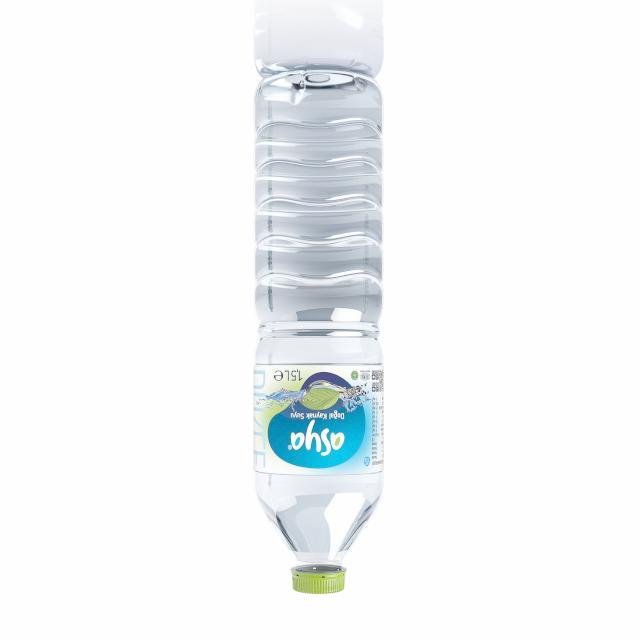cap: (286, 560, 350, 596)
label: (246, 360, 390, 475)
not-crumbled: (245, 62, 392, 604)
